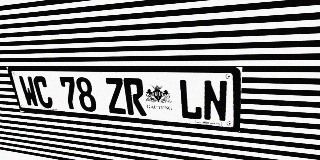7: (58, 77, 81, 111)
8: (74, 77, 98, 112)
C: (32, 76, 54, 109)
L: (178, 79, 202, 120)
N: (203, 80, 228, 122)
R: (123, 78, 147, 116)
W: (18, 76, 40, 107)
Z: (104, 78, 127, 114)
